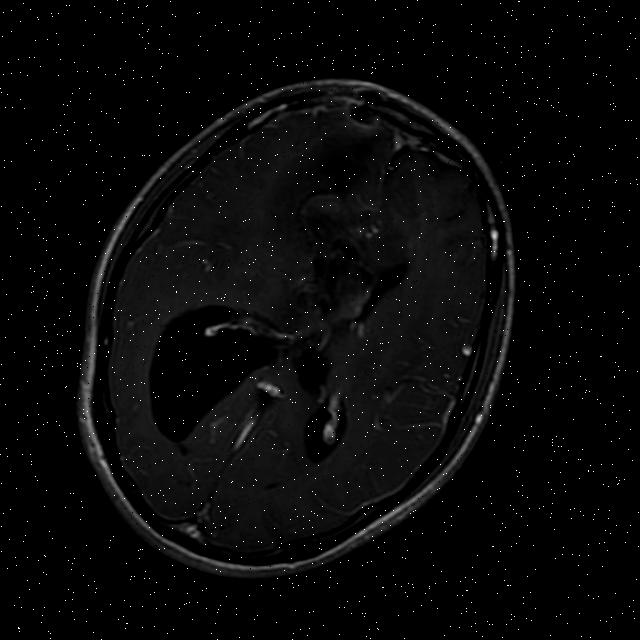Glioma: (266, 183, 399, 332)
